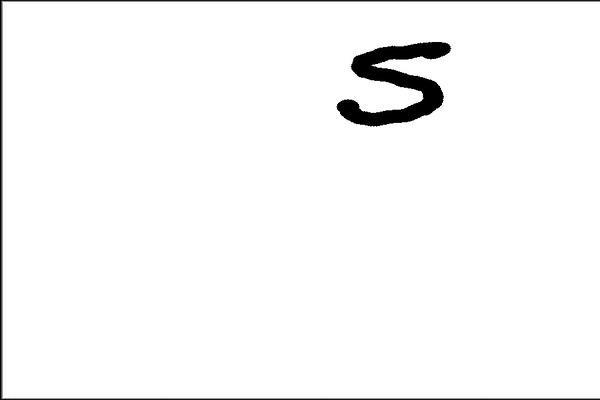S: (332, 36, 455, 131)
